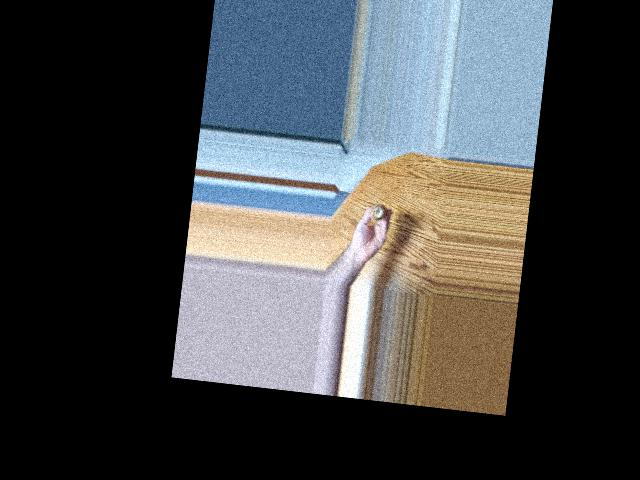sweet_potato: (366, 198, 385, 221)
